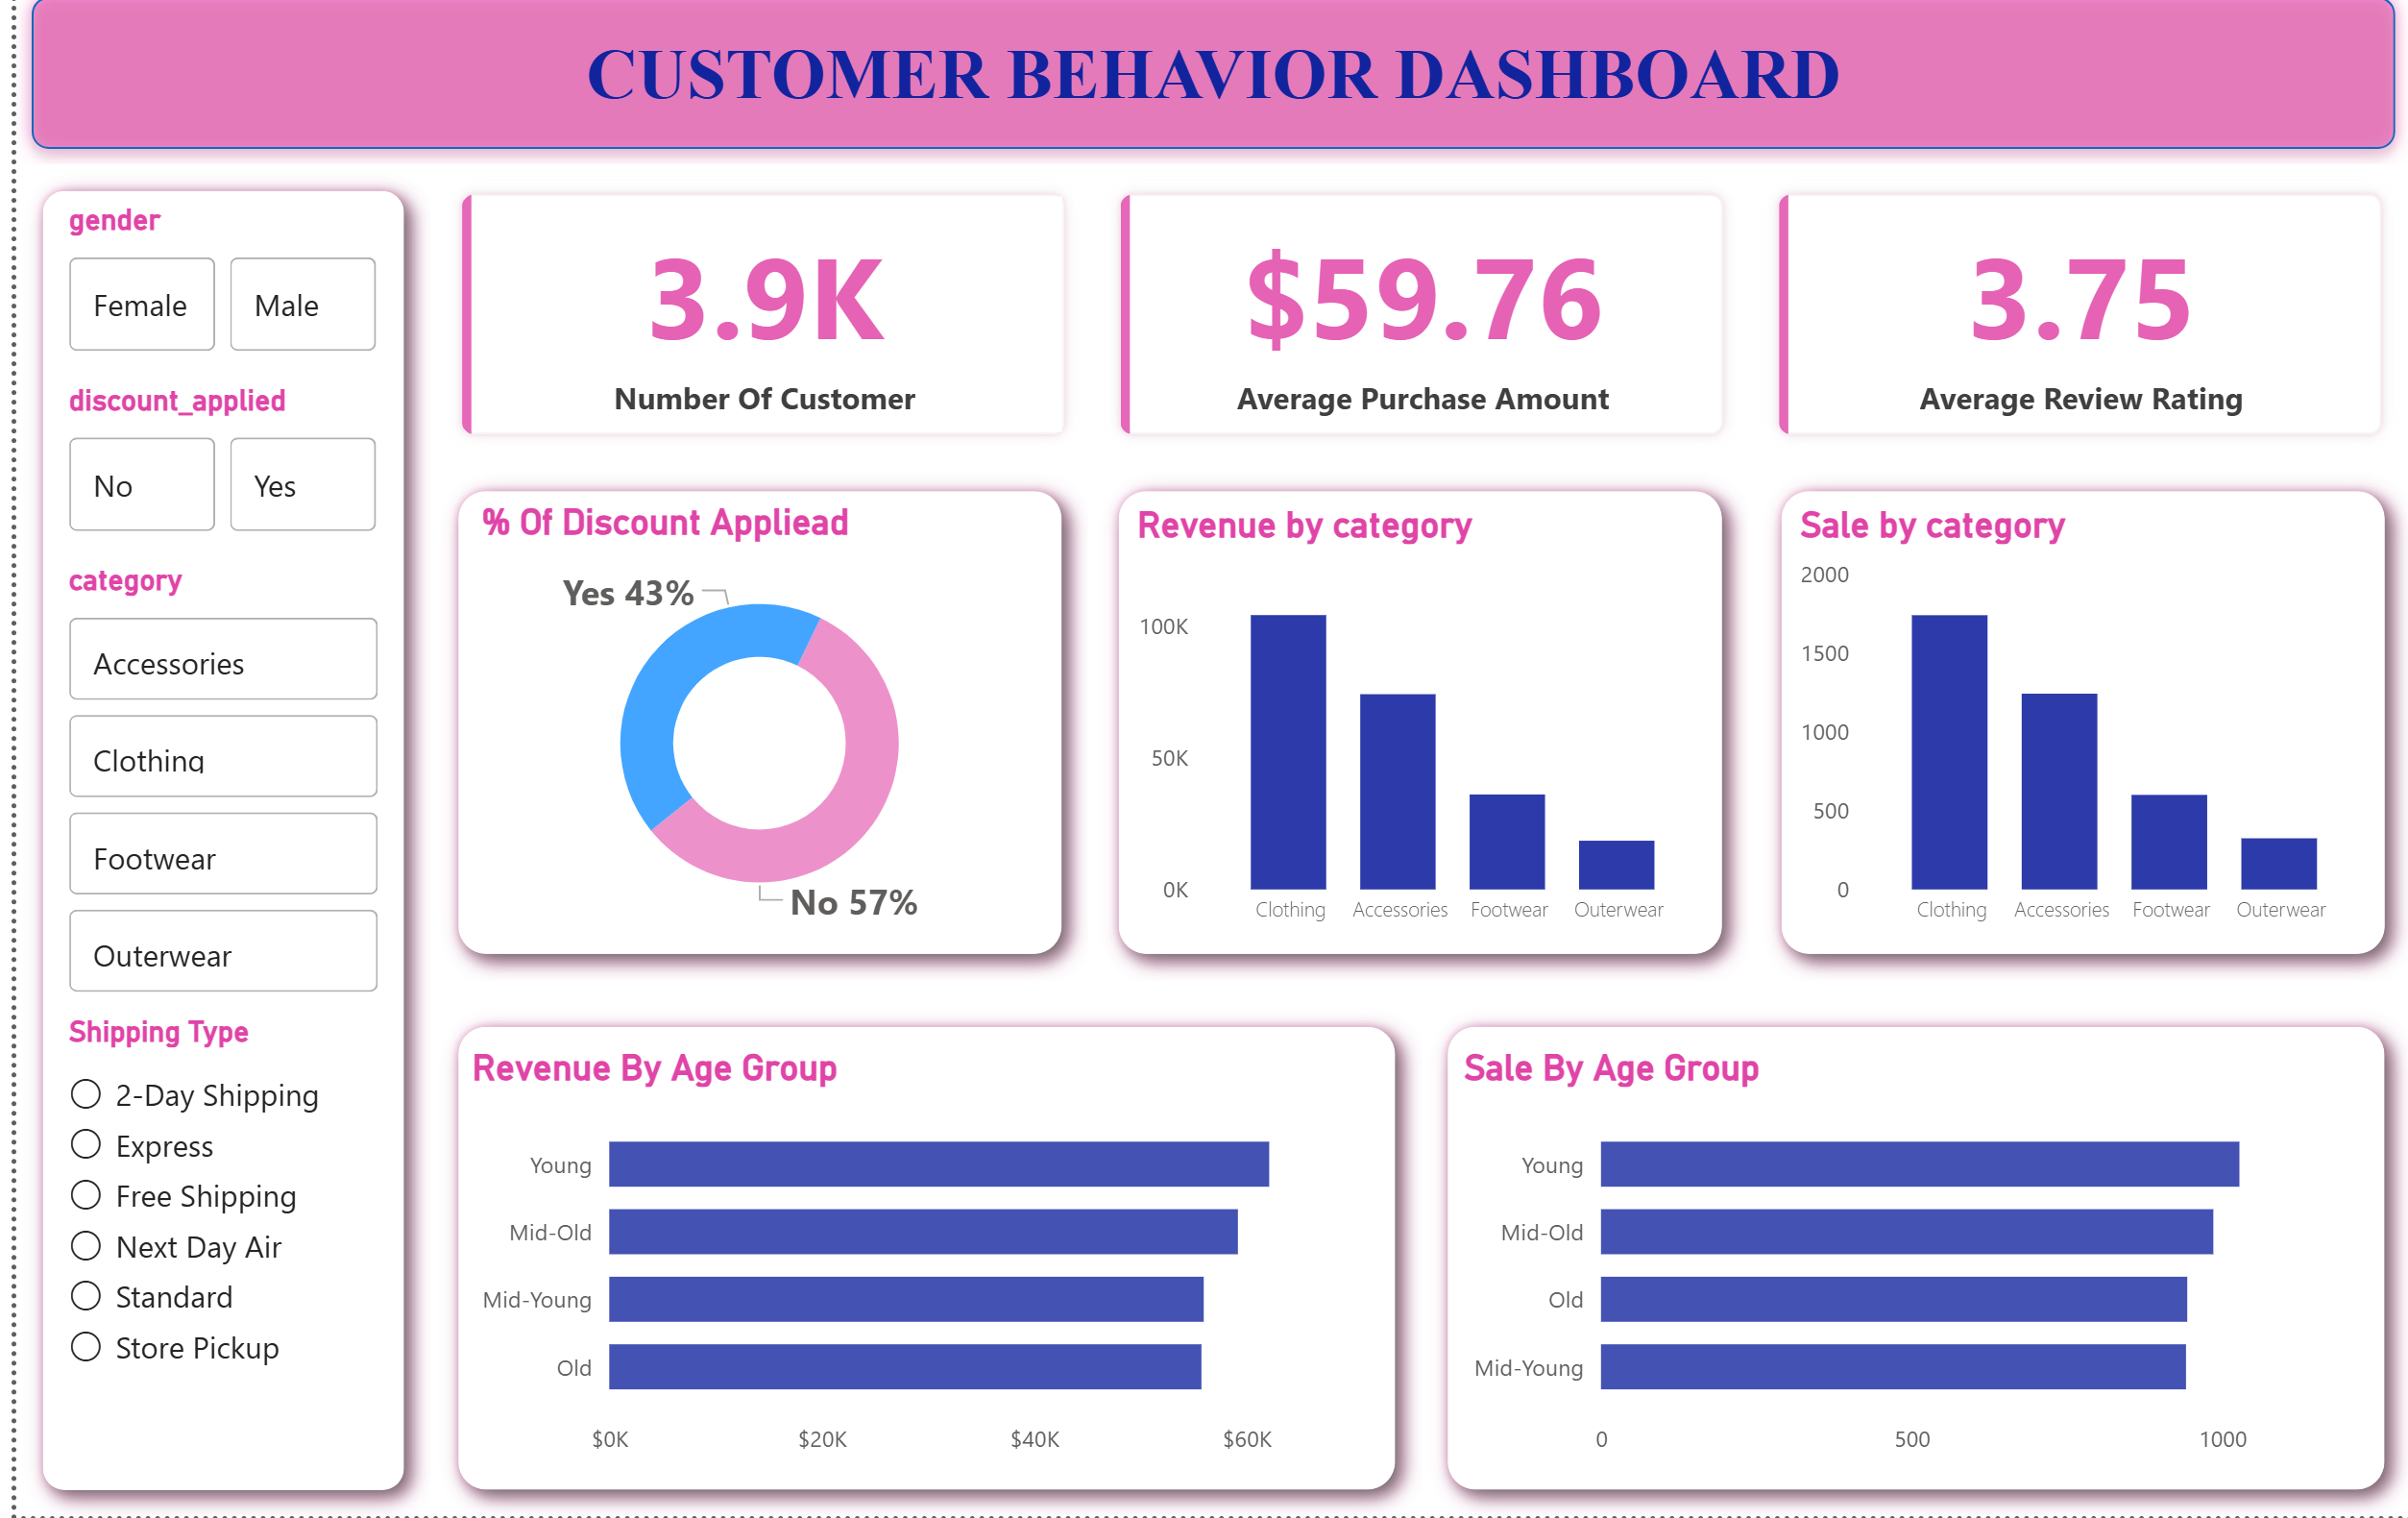

The dashboard page shown, as its layout file describes it:
{"tool":"powerbi","page":{"name":"Page 1","canvas":[1280,820],"ordinal":0},"visuals":[{"type":"cardVisual","fields":{"Data":["retailsdb clean_retail_data.Total Customer","retailsdb clean_retail_data.Average Amount","retailsdb clean_retail_data.Average Review"]},"box":[221.4,97.5,1058.4,160.2],"z":0},{"type":"shape","box":[0,0,1279.9,97.5],"z":1000},{"type":"textbox","box":[0,23.7,1279.9,73.8],"z":2000},{"type":"shape","box":[221.4,257.6,351,275.7],"z":3000},{"type":"shape","box":[928.9,257.6,351,275.7],"z":4000},{"type":"shape","box":[575.2,257.6,351,275.7],"z":5000},{"type":"donutChart","title":"% Of Discount Appliead","fields":{"Y":["CountNonNull(retailsdb clean_retail_data.discount_applied)"],"Category":["retailsdb clean_retail_data.discount_applied"]},"box":[243.7,277.1,306.4,235.4],"z":6000},{"type":"clusteredColumnChart","fields":{"Category":["retailsdb clean_retail_data.category"],"Y":["retailsdb clean_retail_data.Revenue"]},"box":[594.7,278.5,312,235.4],"z":7000},{"type":"clusteredColumnChart","title":"Sale by category","fields":{"Category":["retailsdb clean_retail_data.category"],"Y":["retailsdb clean_retail_data.Total Customer"]},"box":[948.4,278.5,312,235.4],"z":8000},{"type":"shape","box":[0,97.5,221.4,722.8],"z":9000},{"type":"advancedSlicerVisual","fields":{"Values":["retailsdb clean_retail_data.discount_applied"]},"box":[23.7,214.5,175.5,85],"z":10000},{"type":"advancedSlicerVisual","fields":{"Values":["retailsdb clean_retail_data.gender"]},"box":[23.7,118.4,175.5,85],"z":11000},{"type":"advancedSlicerVisual","fields":{"Values":["retailsdb clean_retail_data.category"]},"box":[23.7,310.6,175.5,235.4],"z":12000},{"type":"listSlicer","title":"Shipping Type","fields":{"Values":["retailsdb clean_retail_data.shipping_type"]},"box":[23.7,551.5,175.5,256.3],"z":13000},{"type":"shape","box":[221.4,544.5,529.2,275.7],"z":14000},{"type":"shape","box":[750.6,544.5,529.2,275.7],"z":15000},{"type":"clusteredBarChart","title":"Revenue By Age Group","fields":{"Category":["retailsdb clean_retail_data.age_group"],"Y":["retailsdb clean_retail_data.Revenue"]},"box":[238.1,568.2,494.4,228.4],"z":16000},{"type":"clusteredBarChart","title":"Sale By Age Group","fields":{"Category":["retailsdb clean_retail_data.age_group"],"Y":["retailsdb clean_retail_data.Total Customer"]},"box":[768.8,568.2,494.4,228.4],"z":16001}]}

Visuals, with their boxes in screenshot pixels (x1, y1, x2, y2), scaled from the page's 1280x820 canvas onto the 2408x1518 screenshot:
cardVisual - retailsdb clean_retail_data.Total Customer x retailsdb clean_retail_data.Average Amount: <region>417, 181, 2407, 477</region>
shape: <region>0, 0, 2407, 181</region>
textbox: <region>0, 44, 2407, 181</region>
shape: <region>417, 477, 1077, 988</region>
shape: <region>1747, 477, 2407, 988</region>
shape: <region>1082, 477, 1742, 988</region>
"% Of Discount Appliead" donutChart: <region>458, 513, 1034, 949</region>
clusteredColumnChart - retailsdb clean_retail_data.category x retailsdb clean_retail_data.Revenue: <region>1119, 516, 1706, 951</region>
"Sale by category" clusteredColumnChart: <region>1785, 516, 2372, 951</region>
shape: <region>0, 181, 417, 1517</region>
advancedSlicerVisual - retailsdb clean_retail_data.discount_applied: <region>44, 397, 375, 554</region>
advancedSlicerVisual - retailsdb clean_retail_data.gender: <region>44, 219, 375, 377</region>
advancedSlicerVisual - retailsdb clean_retail_data.category: <region>44, 575, 375, 1011</region>
"Shipping Type" listSlicer: <region>44, 1021, 375, 1495</region>
shape: <region>417, 1008, 1412, 1517</region>
shape: <region>1412, 1008, 2407, 1517</region>
"Revenue By Age Group" clusteredBarChart: <region>448, 1052, 1378, 1475</region>
"Sale By Age Group" clusteredBarChart: <region>1447, 1052, 2376, 1475</region>
